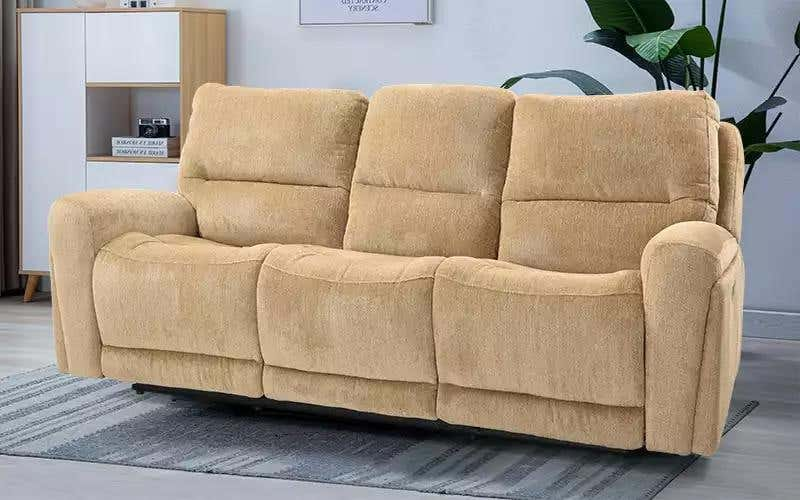3seatersofa: (49, 83, 744, 455)
backrest: (181, 84, 742, 272)
base: (102, 346, 642, 448)
leftarmrest: (641, 222, 743, 454)
leg: (49, 84, 744, 455), (131, 383, 697, 464)
rightarmrest: (49, 189, 195, 374)
seat: (92, 230, 642, 405)
